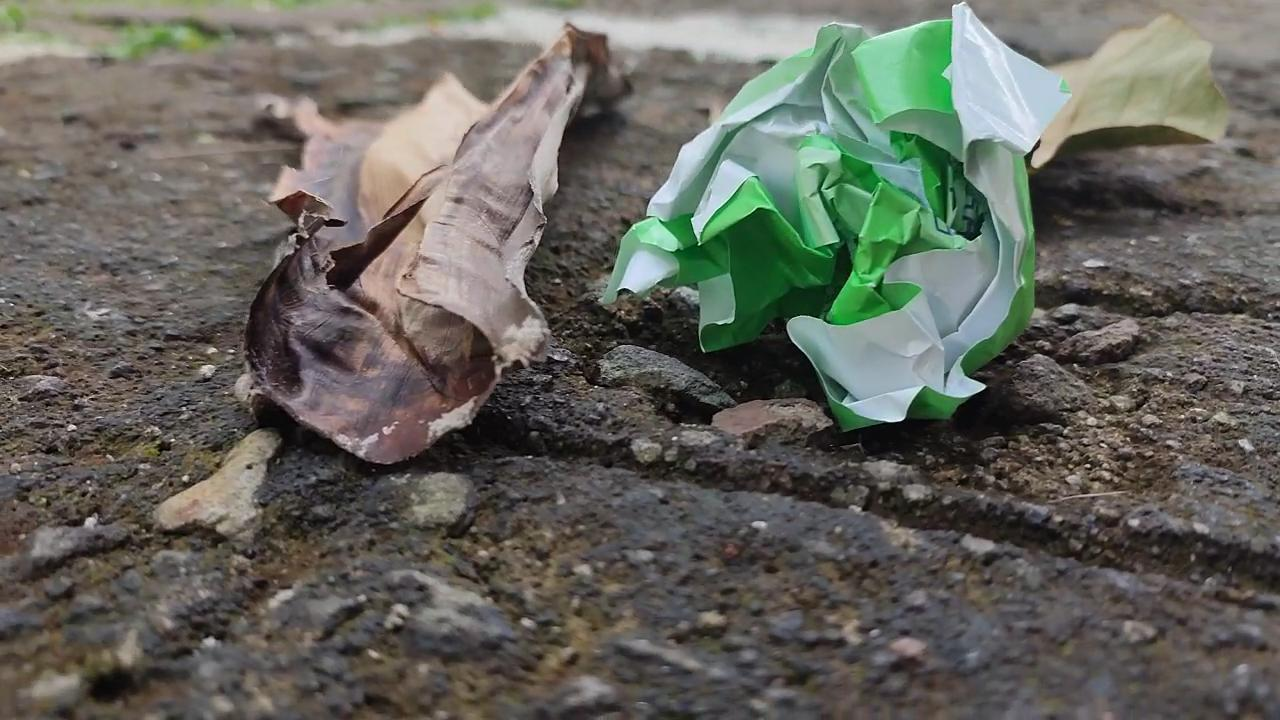Paper: (595, 1, 1065, 452)
